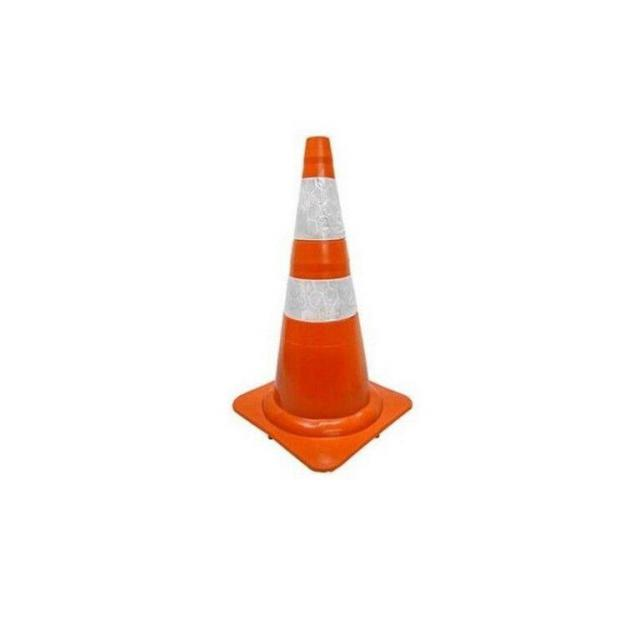cone: (219, 120, 426, 480)
